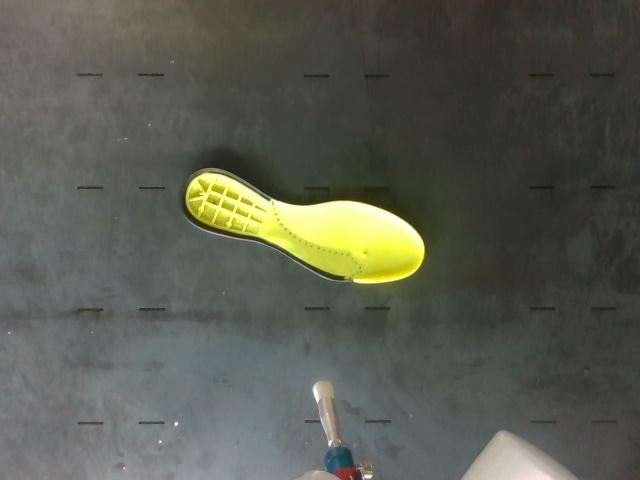shoes: (182, 169, 424, 281)
